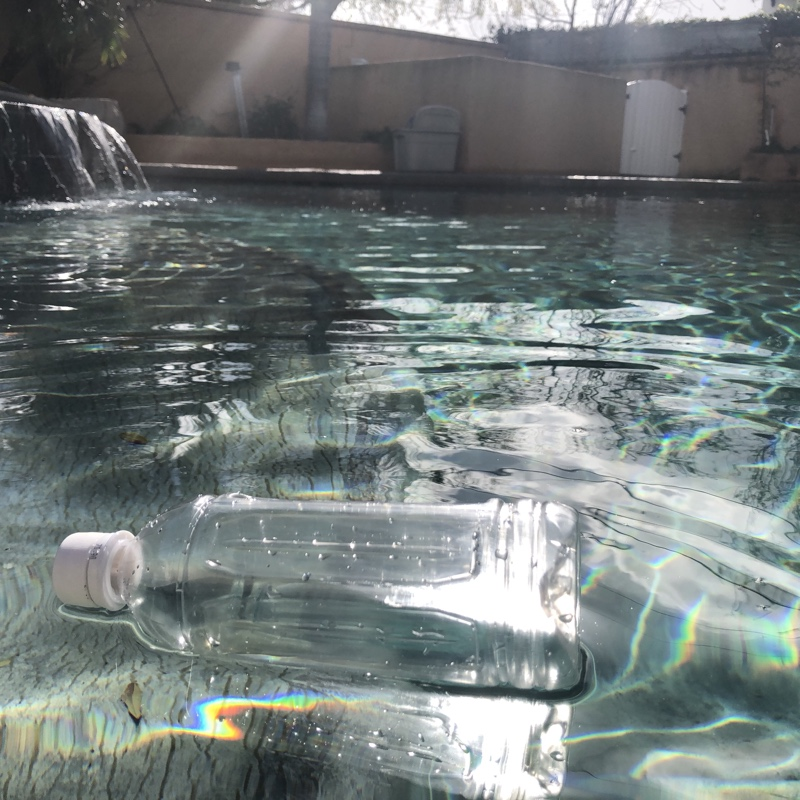Plastic Bottle: (44, 487, 590, 700)
